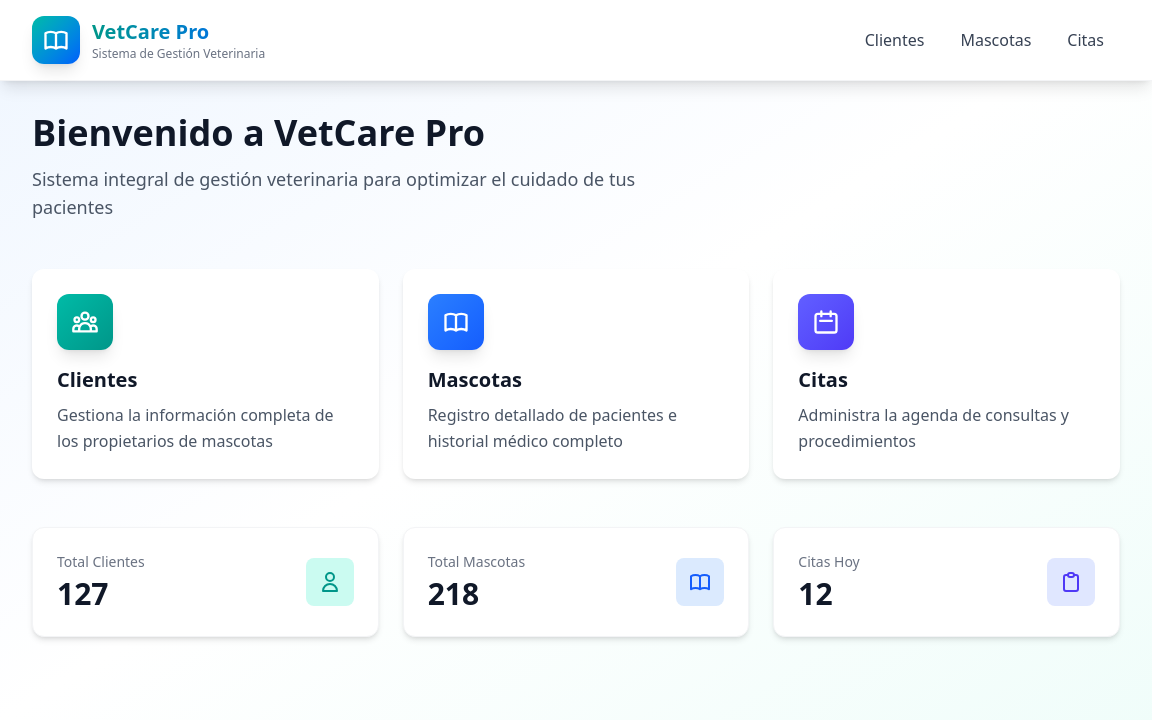
Scenario: MascotApp E2E Tests › Página de Inicio › navega a la página de clientes al hacer clic
This screenshot has width=1152, height=720.
Note: CAMBIO: Se busca el texto exacto del componente Card
Click the heading "Clientes" at (97, 380), box [57,366,137,393]
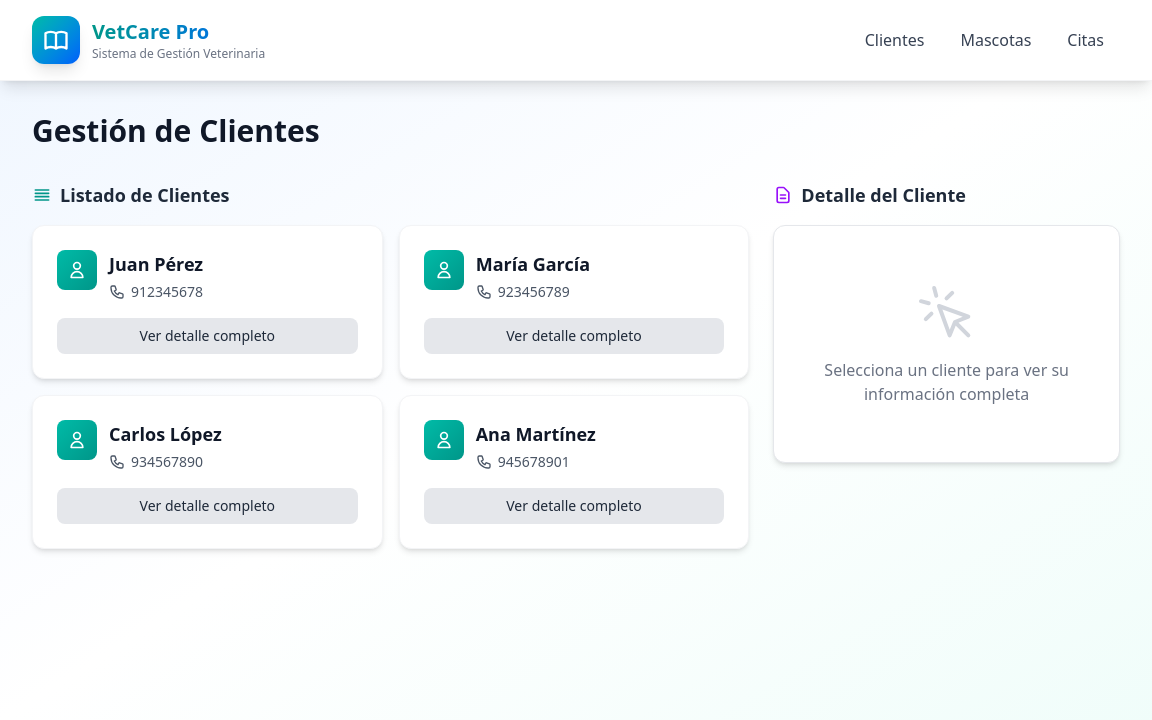
Expected: the heading "Gestión de Clientes" is shown, [32,110,320,151]
